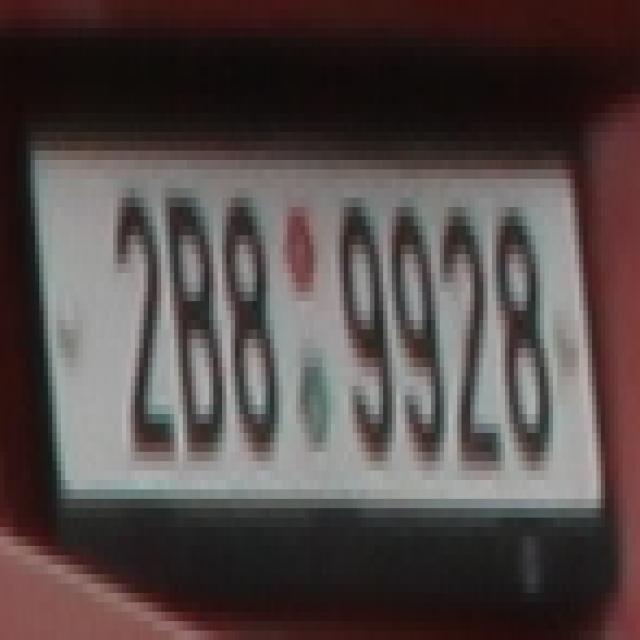2: (100, 179, 174, 452), (439, 207, 496, 471)
8: (218, 188, 274, 461), (496, 217, 548, 470)
9: (322, 188, 396, 461), (383, 188, 444, 452)
B: (161, 188, 222, 461)
